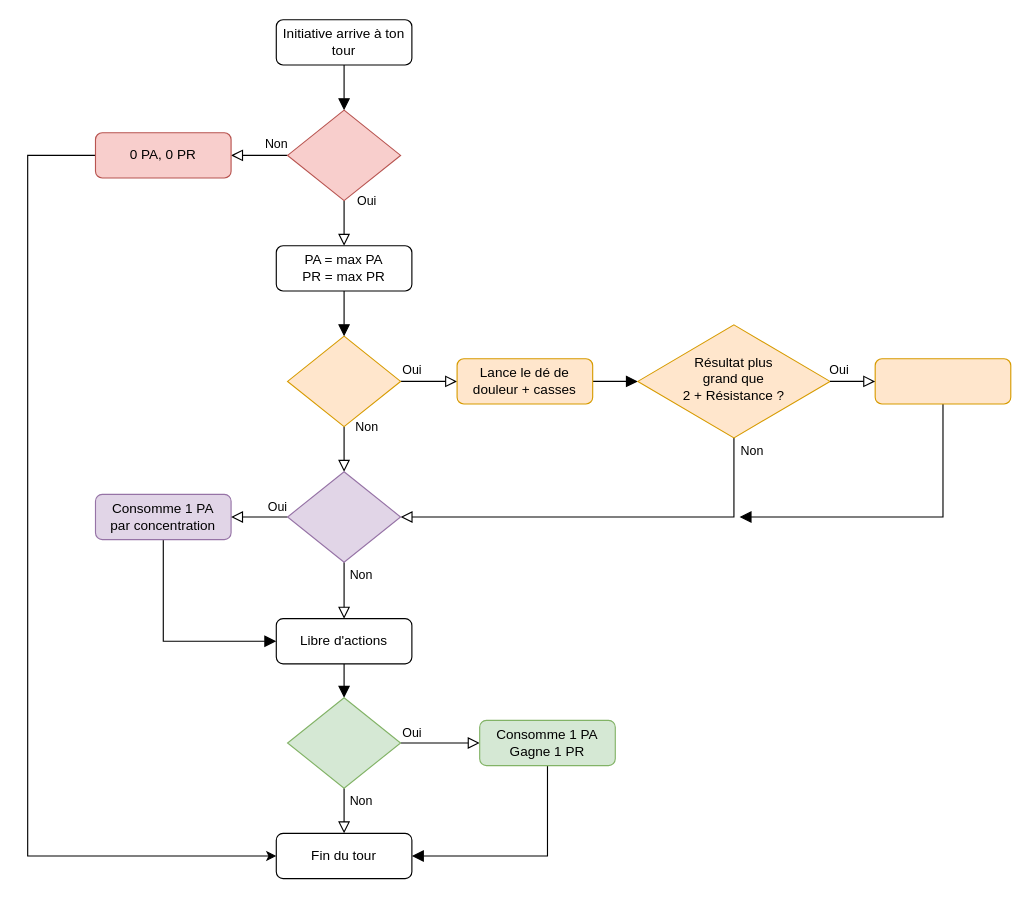
Image size: 1031x898. Some labels were removed from this diagram. The centre of each missing label's shape, as x and y in pixels:
Blessé à 4+ ?: the point at 343,381
Concentré ?: the point at 343,516
Conscient ?: the point at 343,155
Divise PA et PR par 2 (min 1): the point at 942,381
Reste 1 PA ?: the point at 343,742
